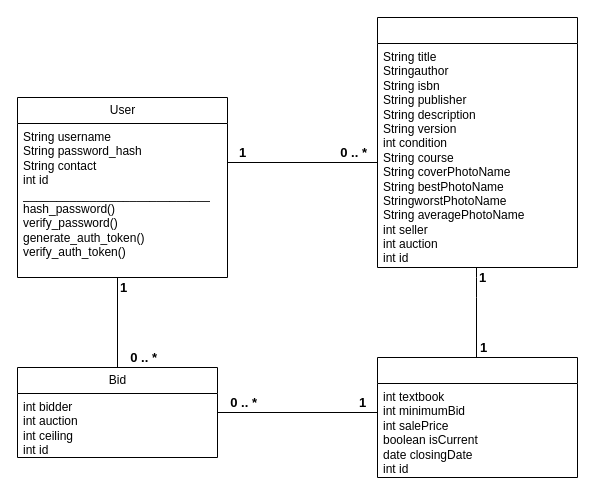
The diagram is 595 pixels wide and 498 high, and some of its shapes have lost their labels. Here are the shapes that lost their labels. From the top down, the box of each, then its label:
(376, 16, 578, 268): Textbook
(376, 356, 578, 478): Auction
